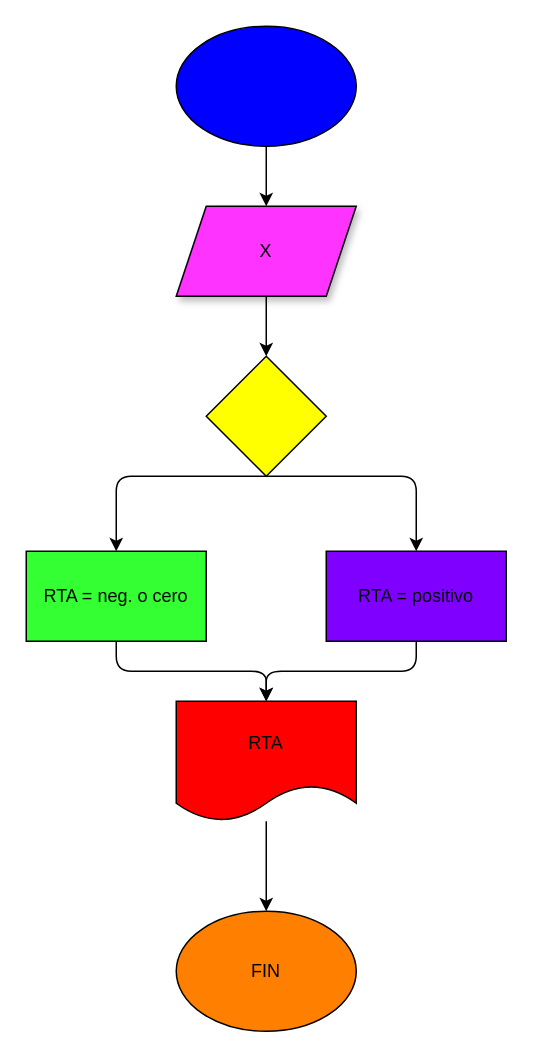
The diagram is 533 pixels wide and 1058 high, and some of its shapes have lost their labels. The centre of each missing label's shape, as x and y in pixels:
INICIO: pixel 265 85
X = 0: pixel 265 415
